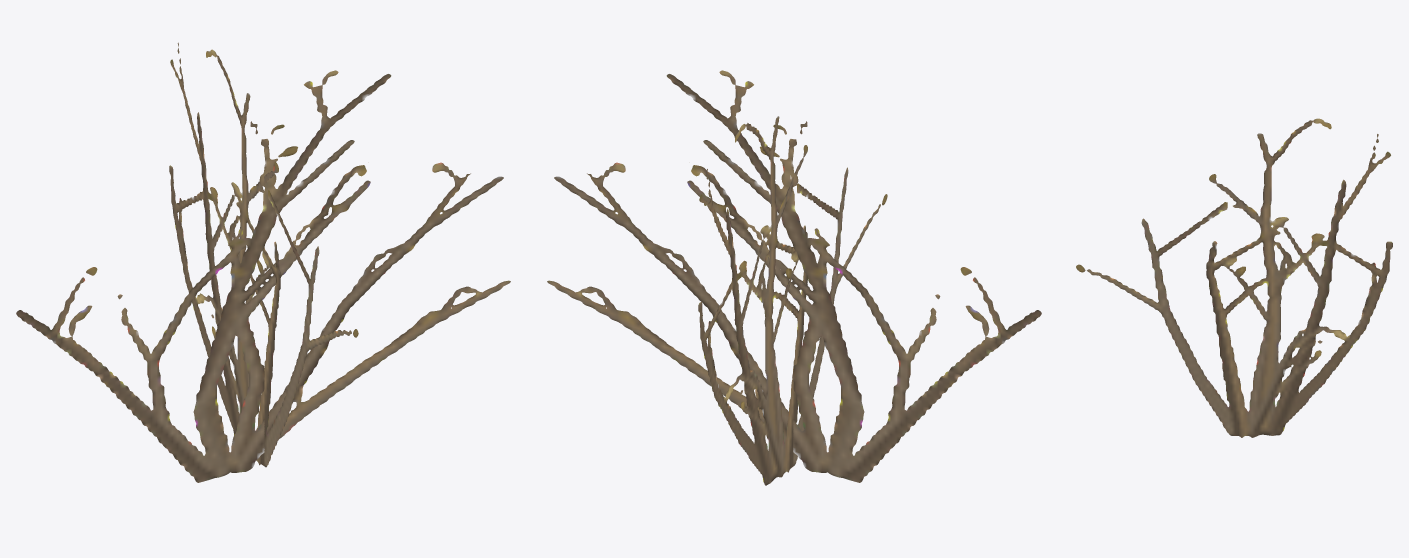
Rendered from dry-shrub-far.glb.
3 renders of one model, left to right at view 1: azimuth 30°, elevation 25°; view 2: azimuth 150°, elevation 25°; view 3: azimuth 270°, elevation 25°, orthographic. The views are drawn at different scales.
Size of the model in its own units: 0.78 by 0.58 by 0.52.
Materials: 1 (1 with a texture image).
